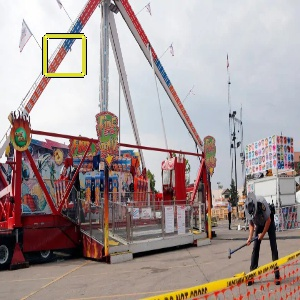square: (39, 31, 89, 80)
